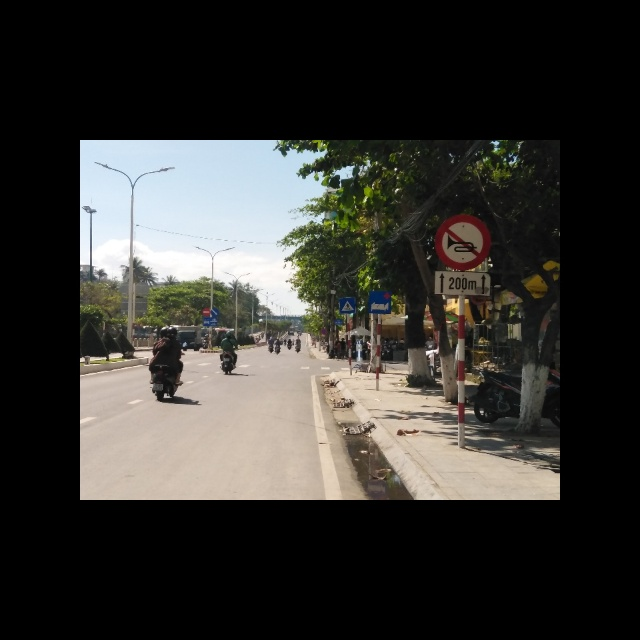Bệnh viện: (369, 290, 393, 314)
Cấm bấm còi: (433, 216, 491, 271)
Đường dành cho người đi bộ: (338, 297, 356, 314)
